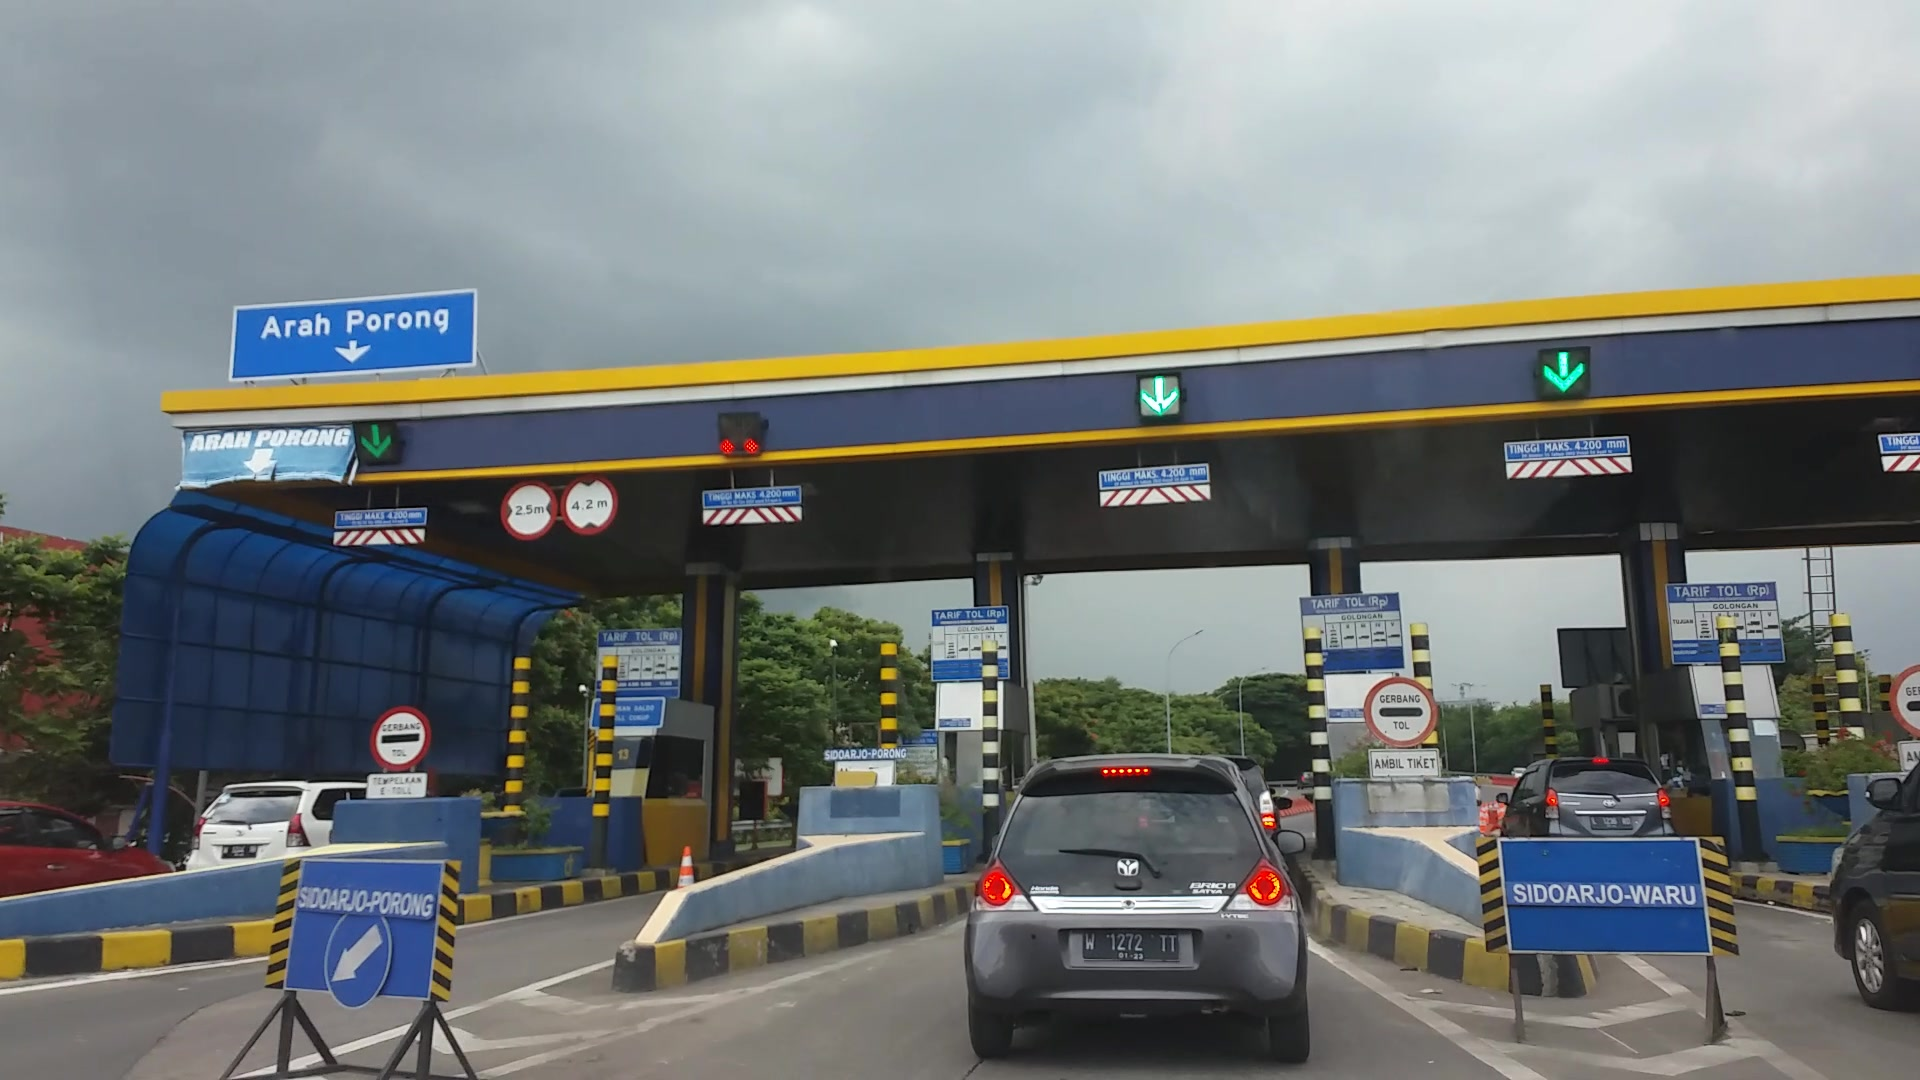plate_positive: (1083, 928, 1178, 961)
